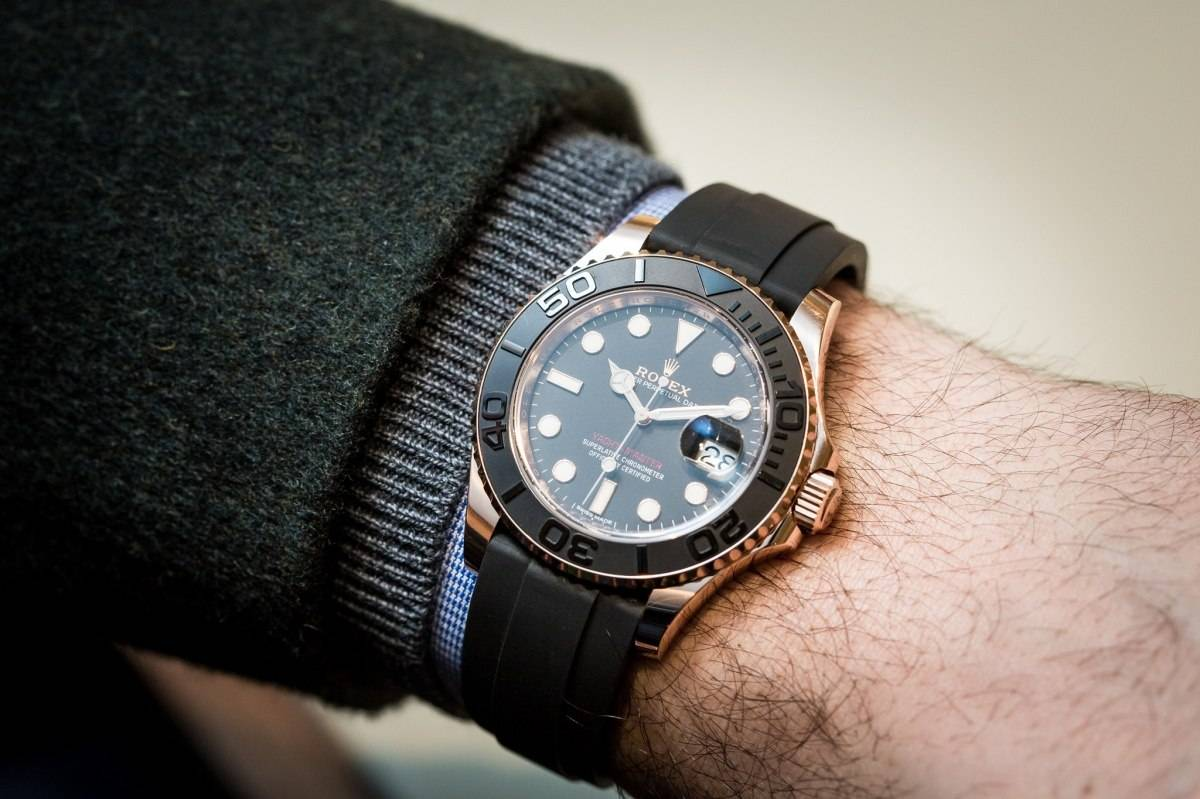clock: (513, 284, 775, 542)
